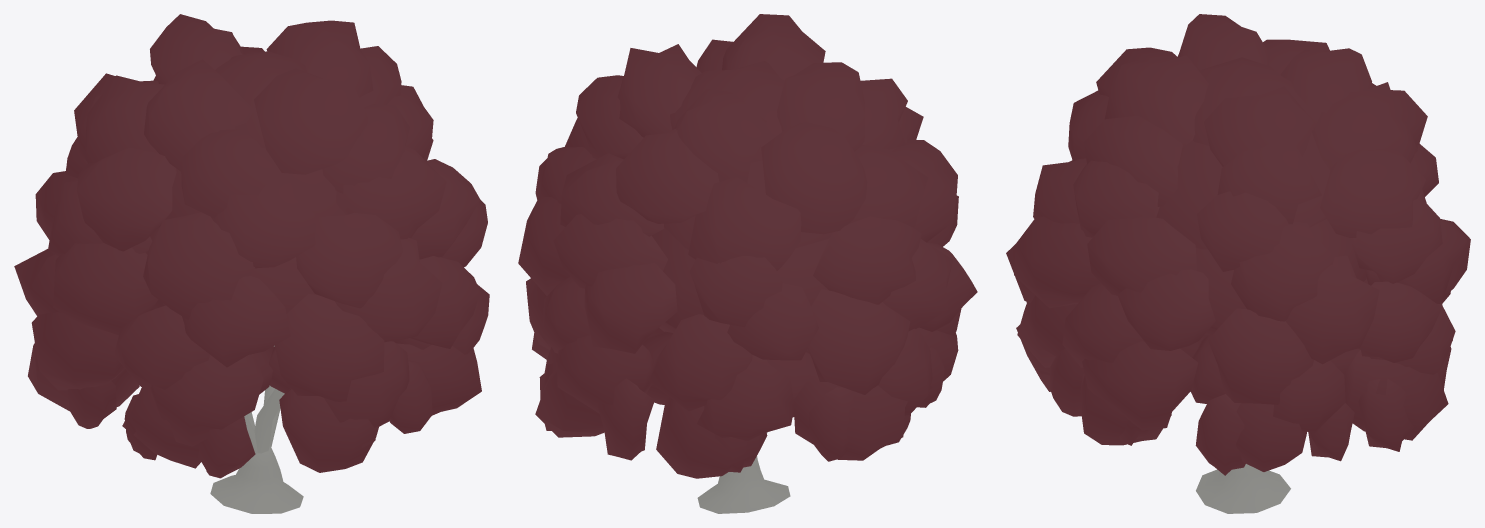
File: Blender_CopperBeech_1.glb
3 renders of one model, left to right at view 1: azimuth 30°, elevation 25°; view 2: azimuth 150°, elevation 25°; view 3: azimuth 270°, elevation 25°, orthographic. The views are drawn at different scales.
Visible parts, largest first — view 1: Blender_CopperBeech_1; view 2: Blender_CopperBeech_1; view 3: Blender_CopperBeech_1.
Part boxes in pixels (x1,y1,x2,y2): Blender_CopperBeech_1: [14, 14, 489, 513]; Blender_CopperBeech_1: [518, 14, 977, 513]; Blender_CopperBeech_1: [1006, 14, 1470, 513].
Bounding box in the file's own units: 24.51 × 25.97 × 24.93.
